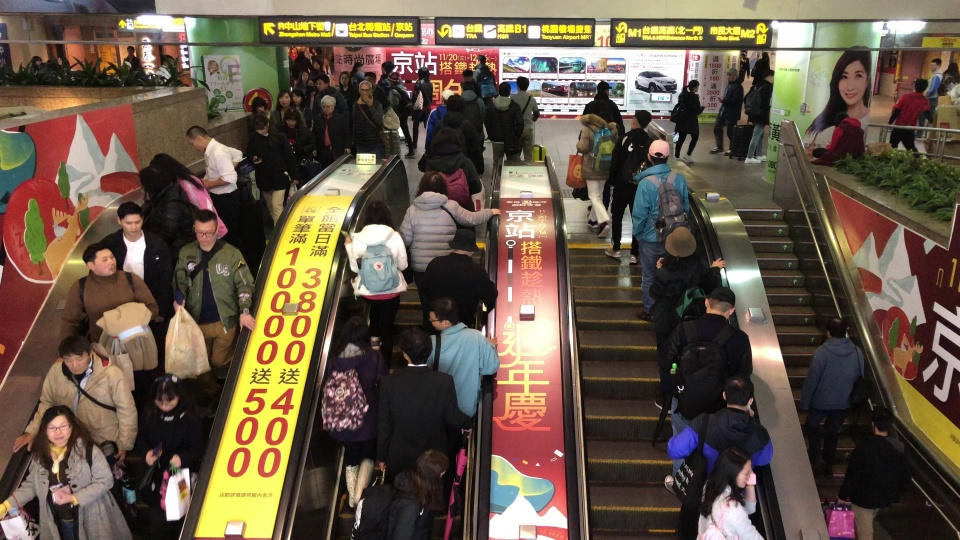person_head: (31, 404, 84, 465), (401, 449, 446, 502), (716, 375, 755, 413), (59, 334, 93, 374), (401, 326, 432, 368), (79, 240, 116, 275), (151, 374, 183, 413), (722, 451, 752, 491), (662, 227, 696, 259), (115, 201, 145, 237), (190, 210, 218, 246), (704, 287, 735, 319), (416, 171, 449, 199), (449, 225, 478, 255), (429, 299, 454, 332), (185, 123, 213, 152), (364, 201, 392, 228), (344, 318, 370, 346), (644, 139, 670, 166), (872, 409, 894, 434), (629, 109, 652, 131), (826, 315, 847, 339), (578, 113, 599, 133), (434, 130, 453, 152), (281, 110, 300, 130), (318, 94, 336, 115), (139, 167, 157, 188), (252, 115, 270, 135), (154, 155, 172, 173), (753, 66, 769, 86), (249, 97, 268, 113), (911, 78, 928, 94), (357, 80, 371, 98), (496, 81, 512, 96), (722, 67, 737, 83), (276, 90, 290, 107), (440, 88, 454, 103), (596, 81, 610, 96), (686, 78, 700, 93), (835, 112, 850, 126), (459, 81, 475, 94), (292, 89, 304, 105), (517, 75, 529, 91), (416, 67, 429, 81), (944, 63, 959, 75), (315, 76, 328, 89), (380, 61, 393, 74), (389, 73, 402, 86), (929, 58, 942, 71), (161, 54, 174, 65), (56, 56, 68, 66), (338, 72, 348, 84), (475, 55, 487, 65), (119, 60, 131, 69), (31, 56, 42, 65), (126, 46, 136, 55), (300, 72, 309, 81), (312, 61, 320, 71), (761, 52, 769, 59), (739, 51, 746, 59), (290, 47, 297, 54), (297, 51, 305, 57)
person_vbox: (662, 287, 755, 496), (663, 375, 774, 538), (1, 405, 134, 540), (368, 327, 467, 507), (11, 334, 140, 467), (60, 240, 163, 395), (170, 210, 260, 376), (651, 226, 726, 415), (802, 314, 870, 488), (404, 225, 499, 346), (419, 297, 504, 427), (322, 317, 379, 509), (632, 139, 691, 321), (395, 170, 499, 273), (96, 200, 173, 333), (839, 409, 913, 540), (342, 201, 407, 350), (142, 375, 200, 521), (357, 449, 448, 540), (604, 109, 657, 265), (148, 152, 232, 244), (184, 123, 244, 245), (417, 79, 488, 177), (699, 451, 775, 540), (417, 131, 482, 229), (569, 113, 619, 231), (243, 98, 294, 212), (138, 167, 198, 260), (247, 98, 278, 245), (886, 78, 937, 158), (481, 80, 525, 162), (667, 77, 708, 163), (807, 112, 865, 169), (709, 67, 744, 157), (741, 66, 772, 164), (383, 73, 416, 158), (510, 75, 541, 163), (578, 81, 625, 138), (472, 55, 501, 143), (312, 94, 351, 158), (352, 81, 386, 154), (278, 109, 313, 176), (407, 67, 433, 149), (922, 58, 942, 149), (271, 90, 309, 131), (457, 81, 484, 131), (313, 77, 345, 116), (290, 90, 314, 133), (751, 51, 770, 92), (940, 64, 960, 95), (156, 54, 176, 84), (338, 71, 355, 105), (294, 51, 311, 81), (376, 61, 394, 88), (737, 59, 750, 86), (55, 56, 75, 73), (123, 45, 140, 65), (293, 72, 309, 91), (310, 60, 324, 78), (119, 61, 133, 77), (30, 56, 44, 71), (288, 47, 299, 61)
